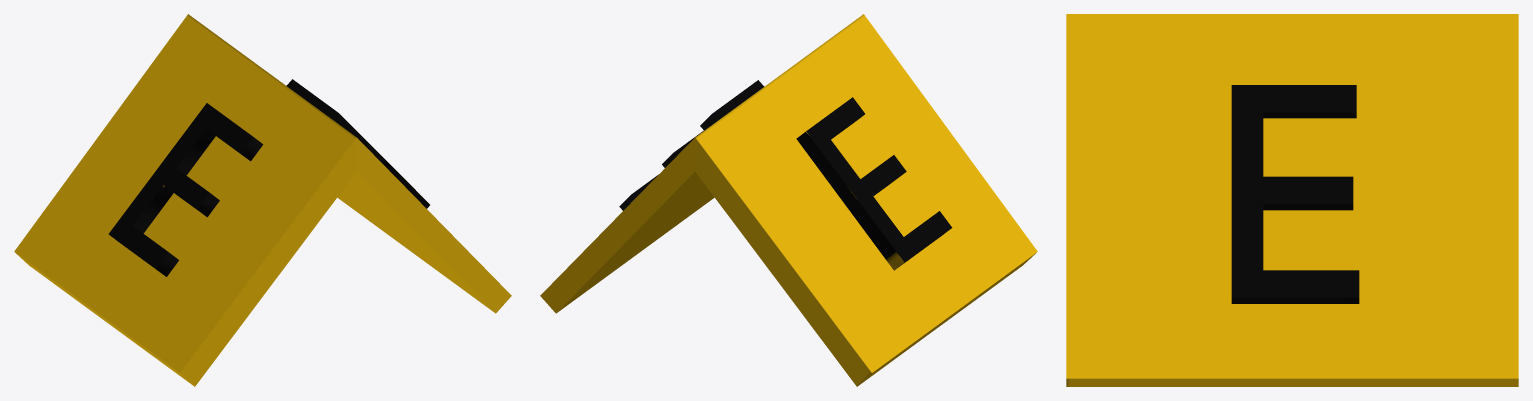
Rendered from EvidenceCard.fbx.
3 views of the same model, side by side, from view 1: azimuth 30°, elevation 25°; view 2: azimuth 150°, elevation 25°; view 3: azimuth 270°, elevation 25° (orthographic). The views are drawn at different scales.
Parts seen in each view (by area): view 1: Cube.002; view 2: Cube.002; view 3: Cube.002.
Part boxes in pixels (x1=…): Cube.002: x1=14, y1=14, x2=511, y2=386; Cube.002: x1=540, y1=14, x2=1037, y2=386; Cube.002: x1=1066, y1=14, x2=1518, y2=386.
Bounding box in the file's own units: 158 × 96.85 × 140.
